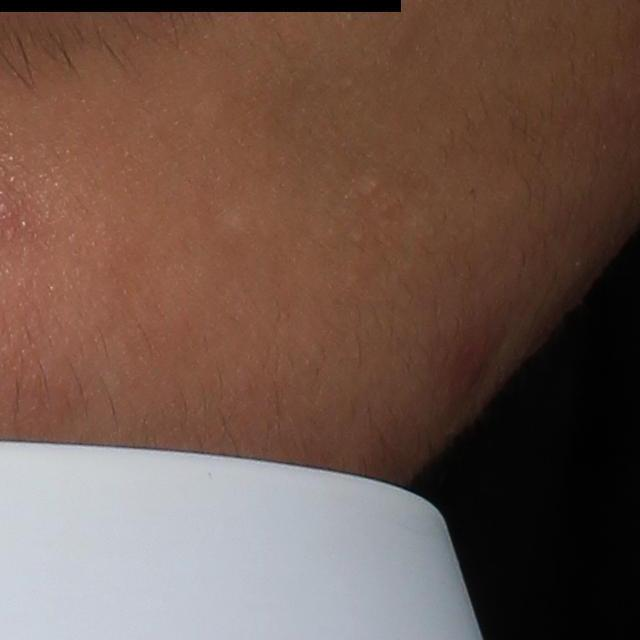comedo: (357, 174, 381, 198)
